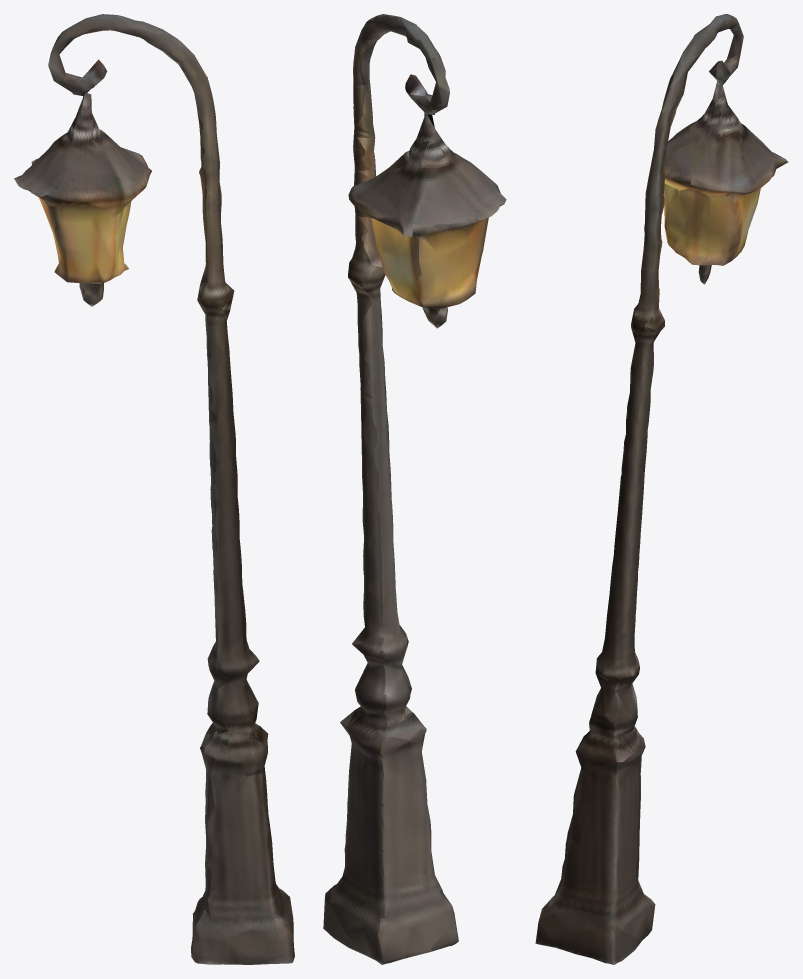
Rendered from lamp.glb.
The picture shows the model from 3 angles, left to right: view 1: azimuth 30°, elevation 25°; view 2: azimuth 150°, elevation 25°; view 3: azimuth 270°, elevation 25°; orthographic projection. The views are drawn at different scales.
Parts seen in each view (by area): view 1: world; view 2: world; view 3: world.
Part boxes in pixels (x1,y1,x2,y2): world: (14,14,294,964); world: (323,14,506,964); world: (535,14,788,964).
Bounding box in the file's own units: 0.2367 × 0.9611 × 0.2485.
Materials: 1 (1 with a texture image).
